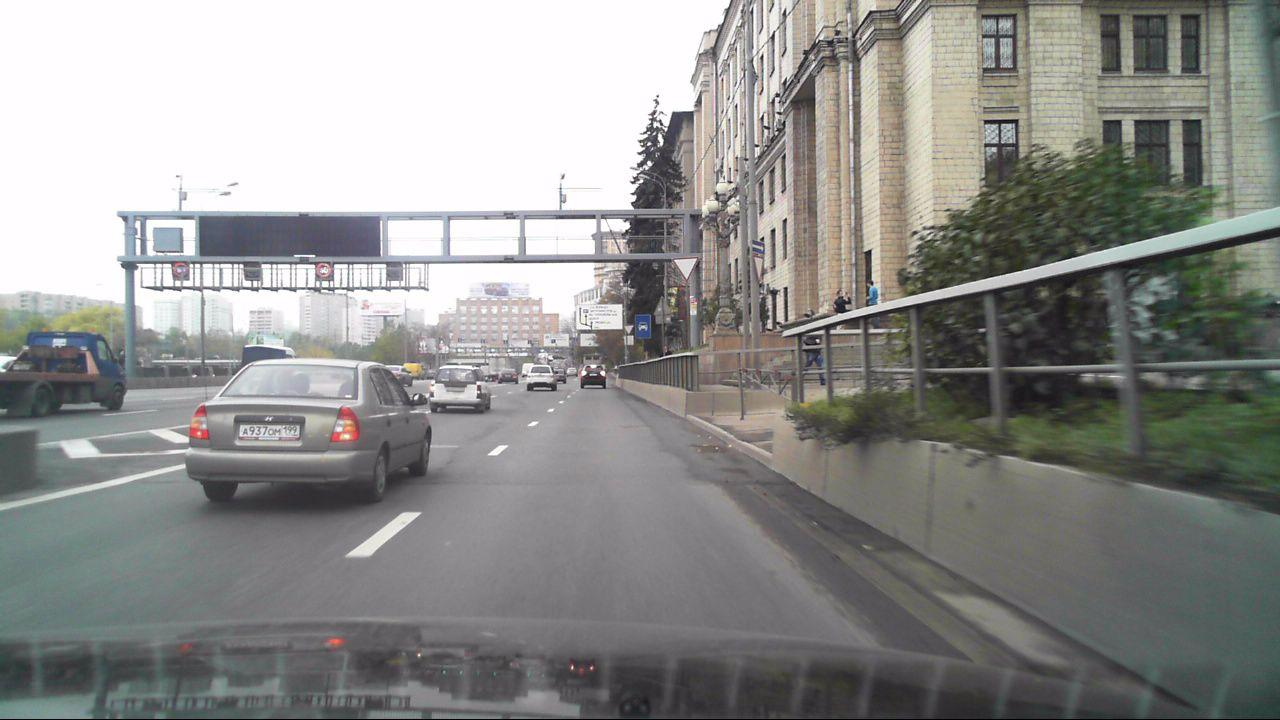2_4: (673, 255, 699, 278), (623, 323, 634, 334)
5_3: (634, 313, 651, 338)
6_9_1: (577, 304, 623, 330)
